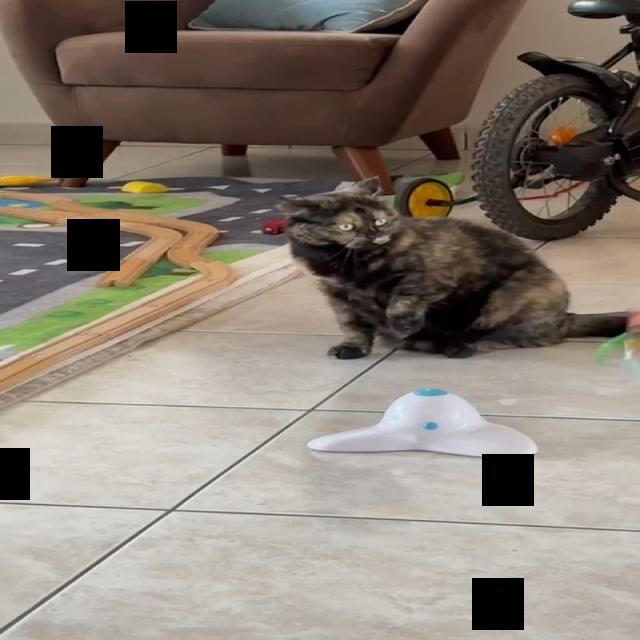authorized: (274, 175, 634, 360)
